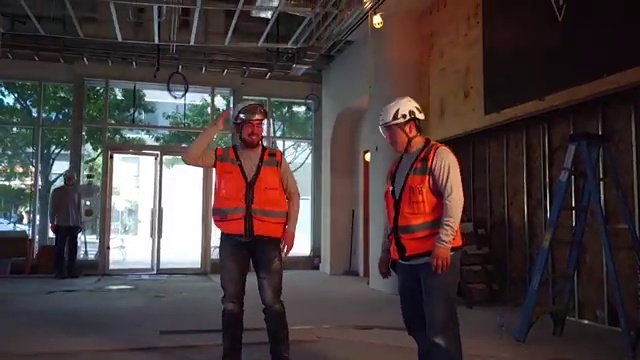helmet: (373, 94, 431, 127), (225, 96, 279, 128)
jacket: (376, 144, 469, 257), (208, 145, 306, 251)
